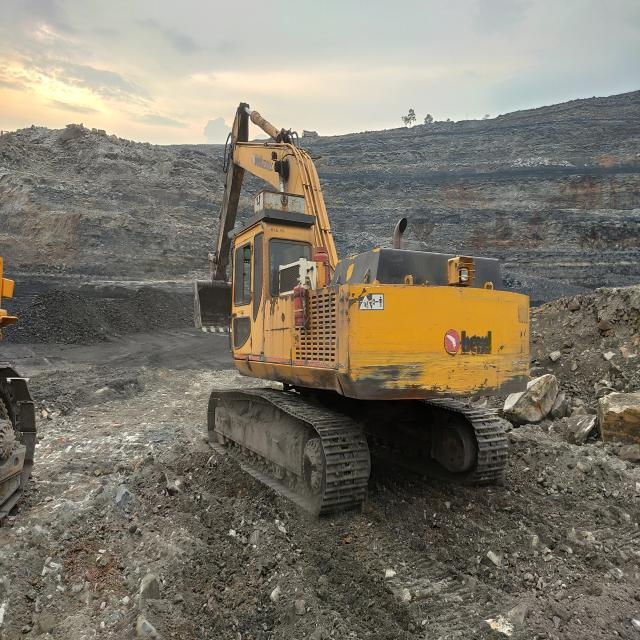excavator: (196, 104, 531, 520)
